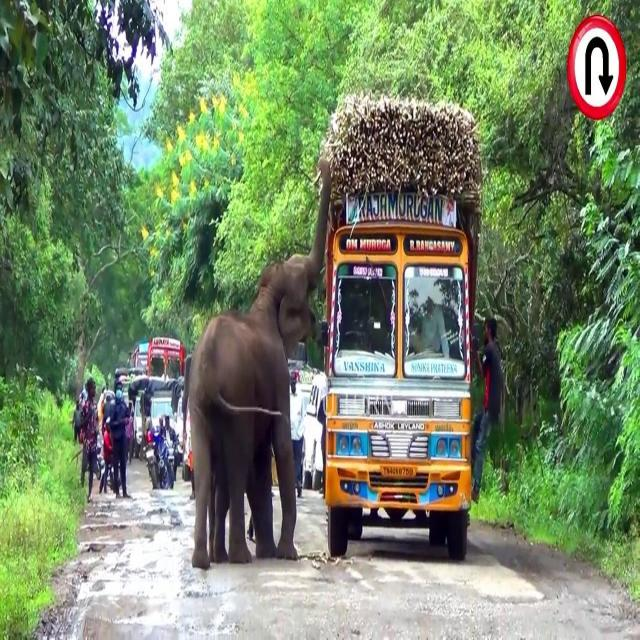Elephant: (187, 154, 333, 572)
